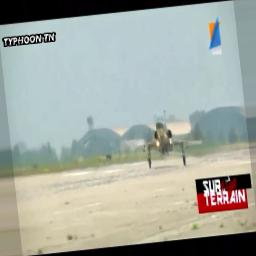Airplane: (130, 119, 204, 168)
